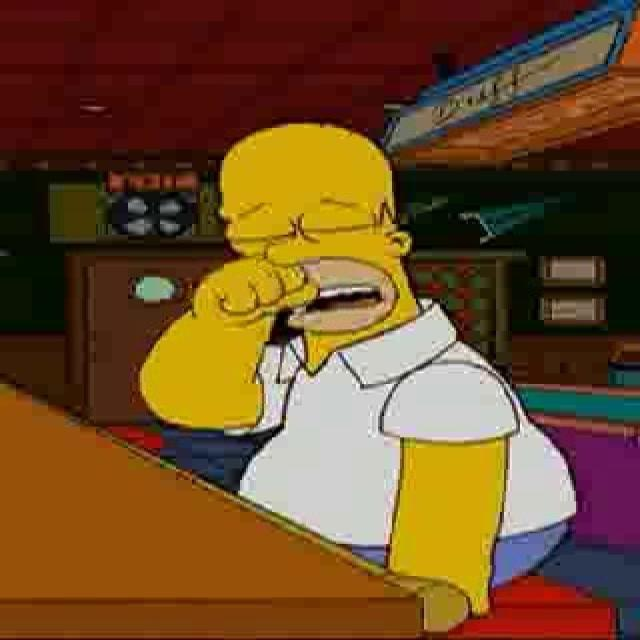Homer Simpson: (215, 119, 425, 342)
